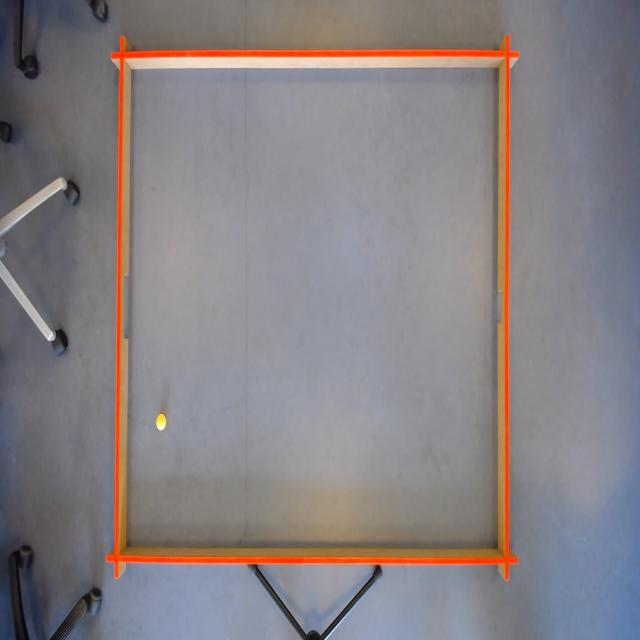orange_ball: (156, 412, 167, 433)
